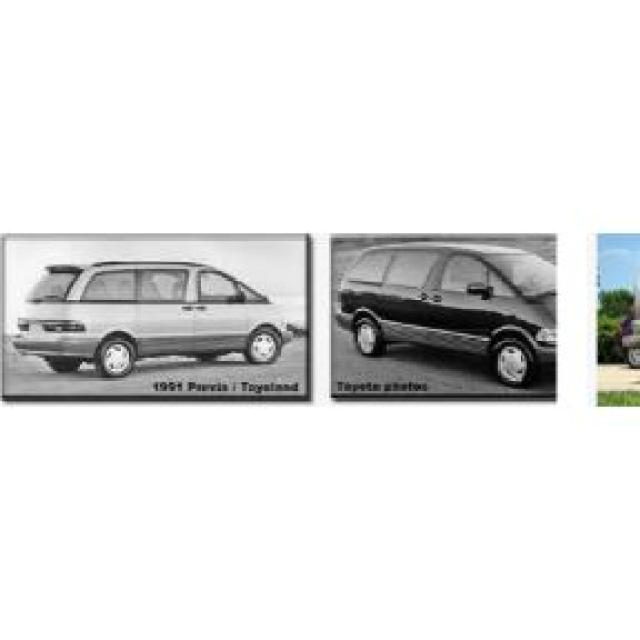Van: (13, 252, 293, 372)
